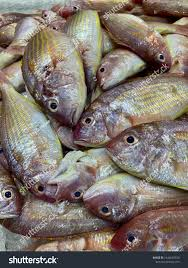Ikan Kerisi: (1, 78, 62, 205), (23, 18, 90, 129), (112, 122, 188, 175)
